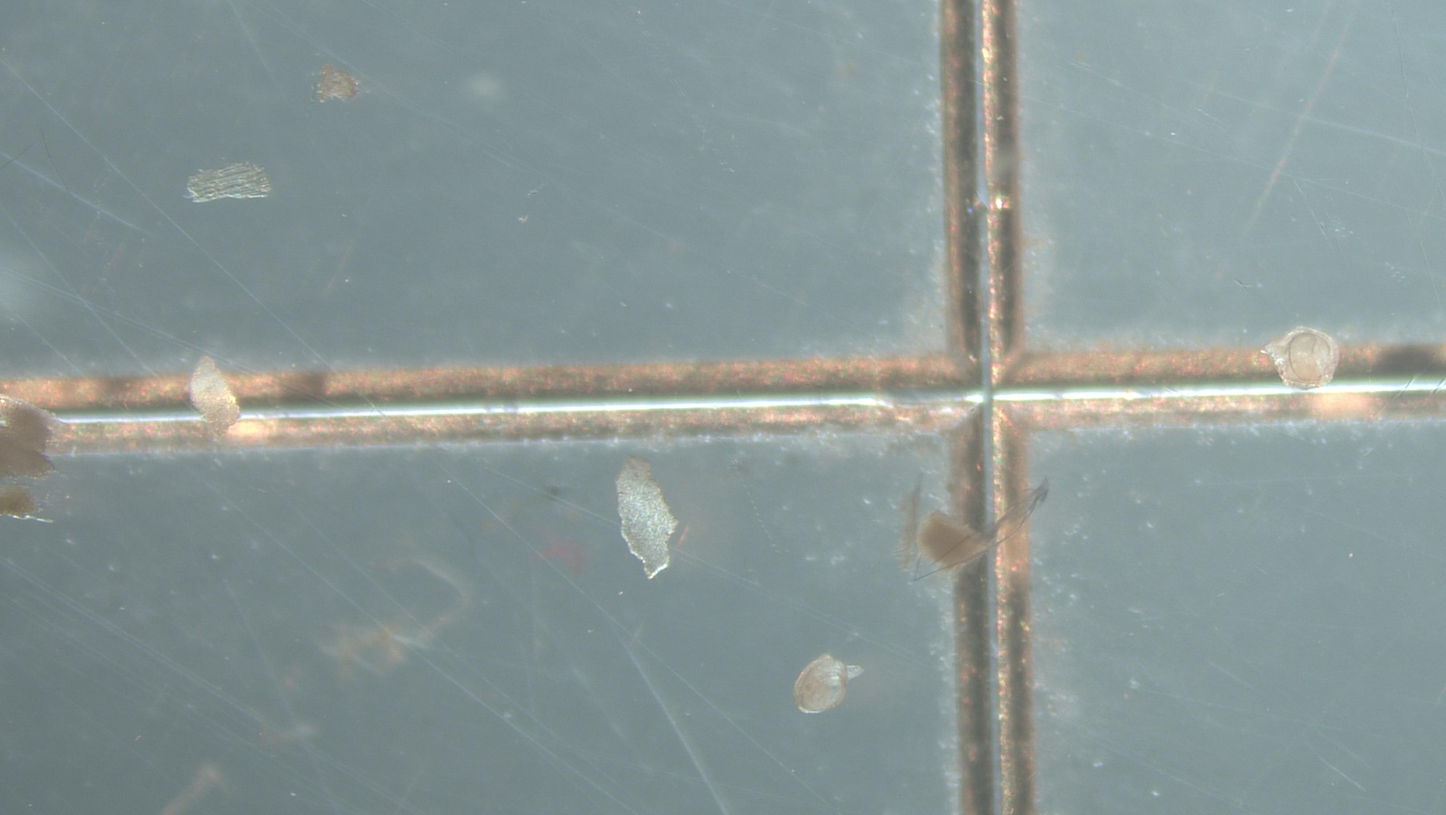dead: (1260, 327, 1338, 390)
live: (793, 654, 864, 713)
